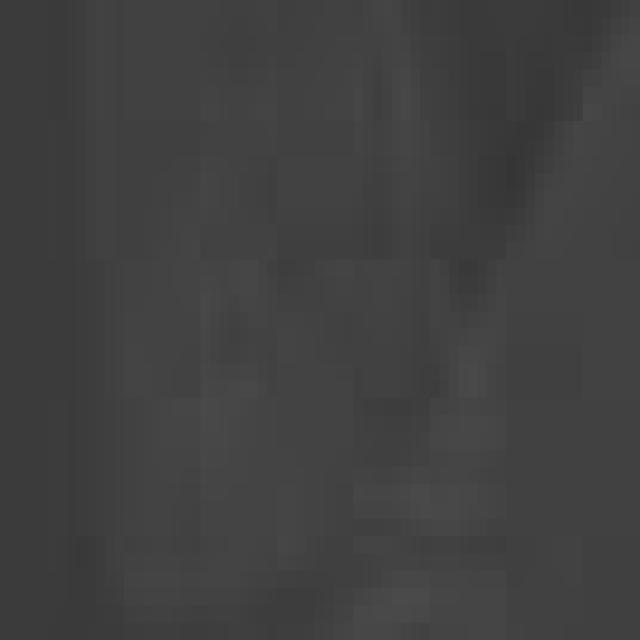fracture: (0, 13, 640, 640)
